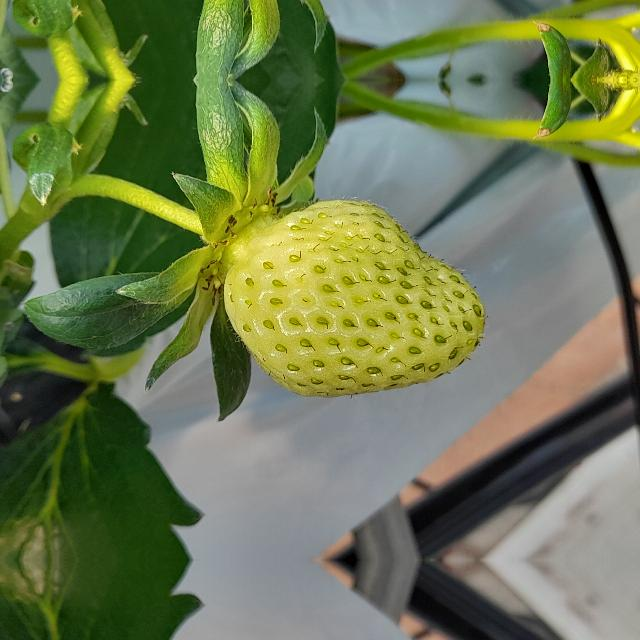Health_25: (223, 196, 487, 398)
